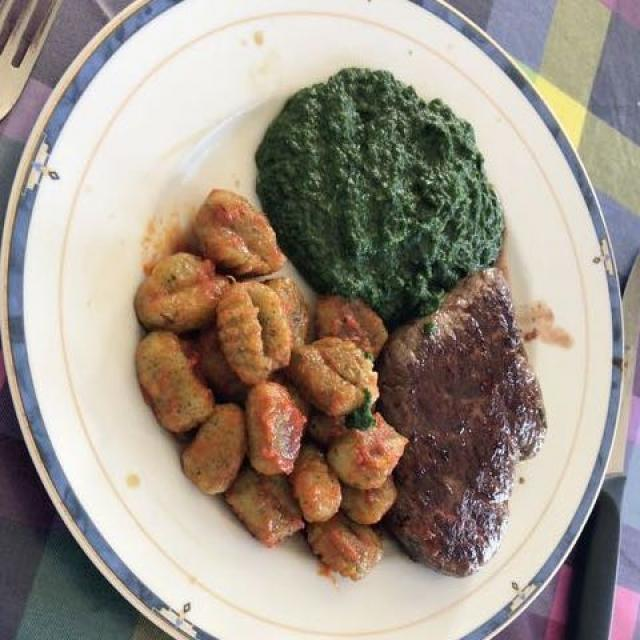beef: (380, 258, 553, 584)
gnocchi: (134, 197, 399, 551)
spinach: (261, 71, 495, 321)
tomato-sauce: (148, 219, 388, 558)
